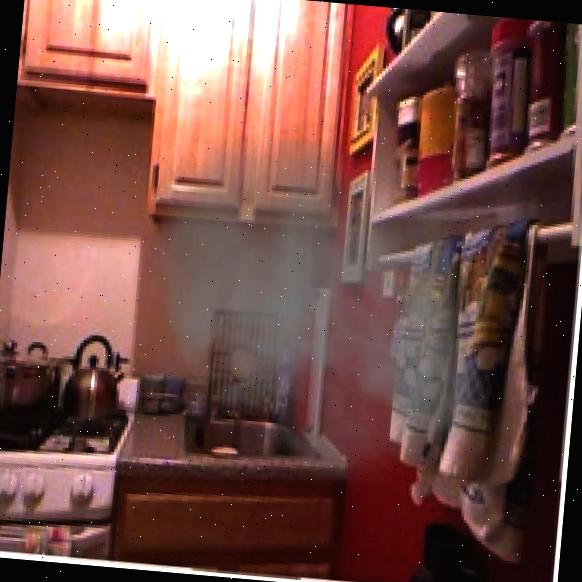smoke: (129, 126, 510, 510)
